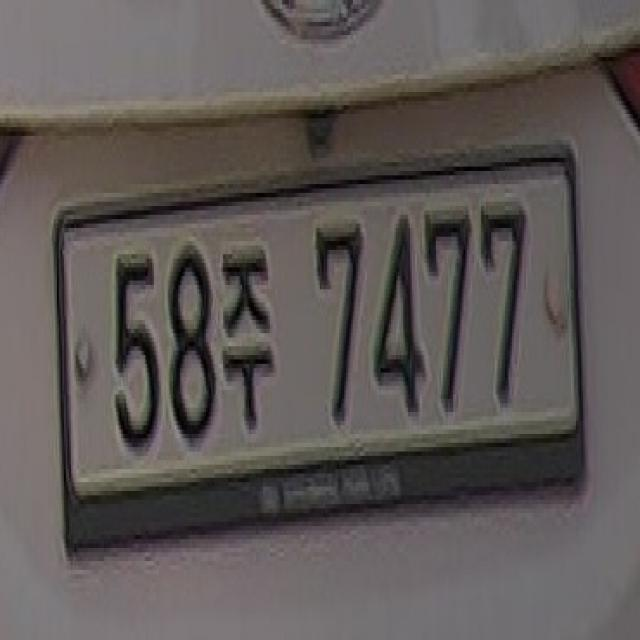4: (374, 206, 426, 427)
5: (108, 236, 160, 457)
7: (312, 202, 368, 435), (479, 186, 528, 422), (426, 199, 473, 416)
8: (164, 229, 217, 442)
ju: (221, 230, 273, 436)
license_plate: (41, 121, 599, 591)
